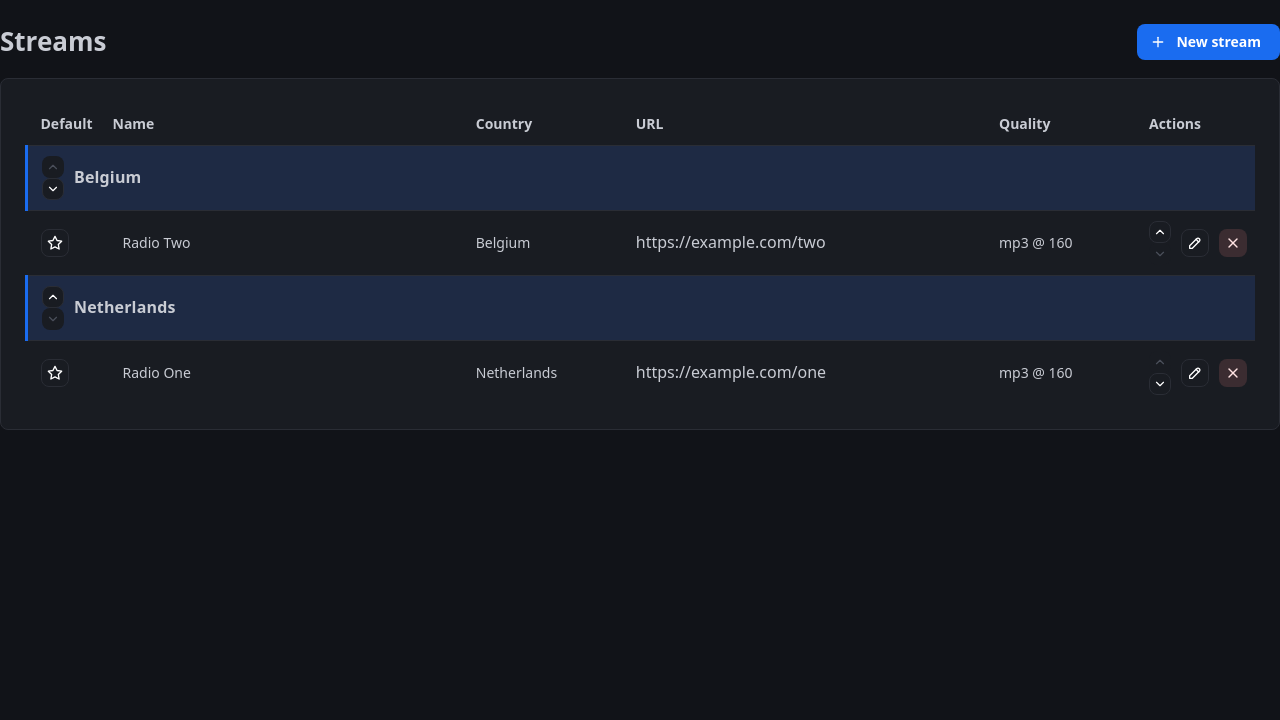
Test: StreamTable › Delete opens a typed-confirm panel showing the advisory file/byte count
Check: the text "Radio One" is shown, box [98,340,462,405]
Click the button named "Delete Radio One".
click(1233, 373)  # box [1219,359,1247,387]
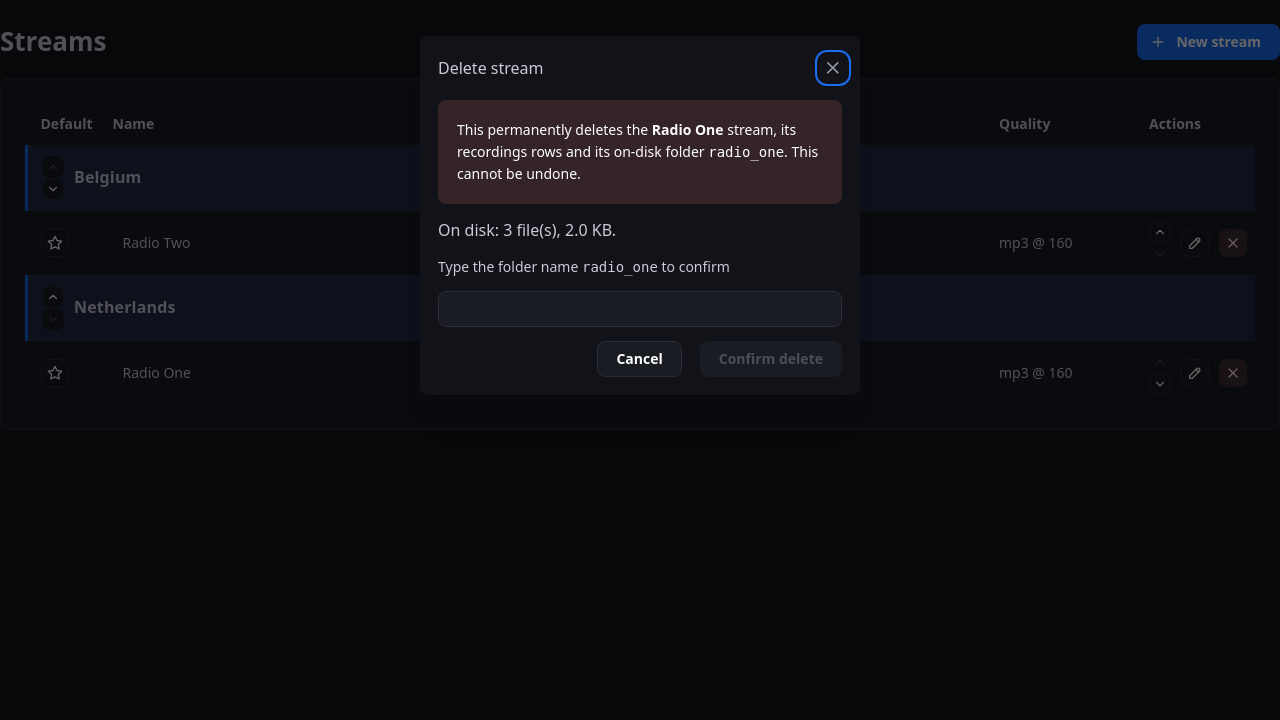
Check: the text "On disk: 3 file(s), 2.0 KB." is shown, box [438,219,616,241]
